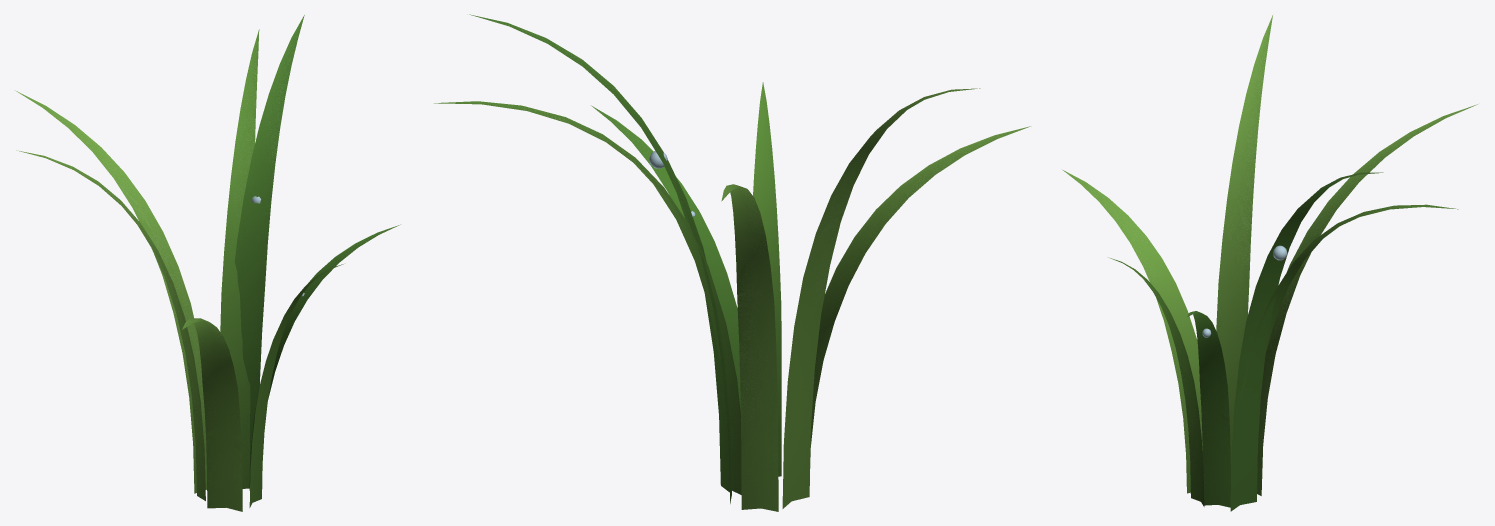
The model's file is grass-1.obj.
3 renders of one model, left to right at view 1: azimuth 30°, elevation 25°; view 2: azimuth 150°, elevation 25°; view 3: azimuth 270°, elevation 25°, orthographic. The views are drawn at different scales.
Visible parts, largest first — view 1: grass; view 2: grass; view 3: grass.
Boxes of the visible parts, x1,y1,x2,y2 form: grass: (15, 15, 400, 511); grass: (434, 14, 1031, 511); grass: (1063, 15, 1477, 511).
Size of the model in its own units: 1681 by 1815 by 1725.
